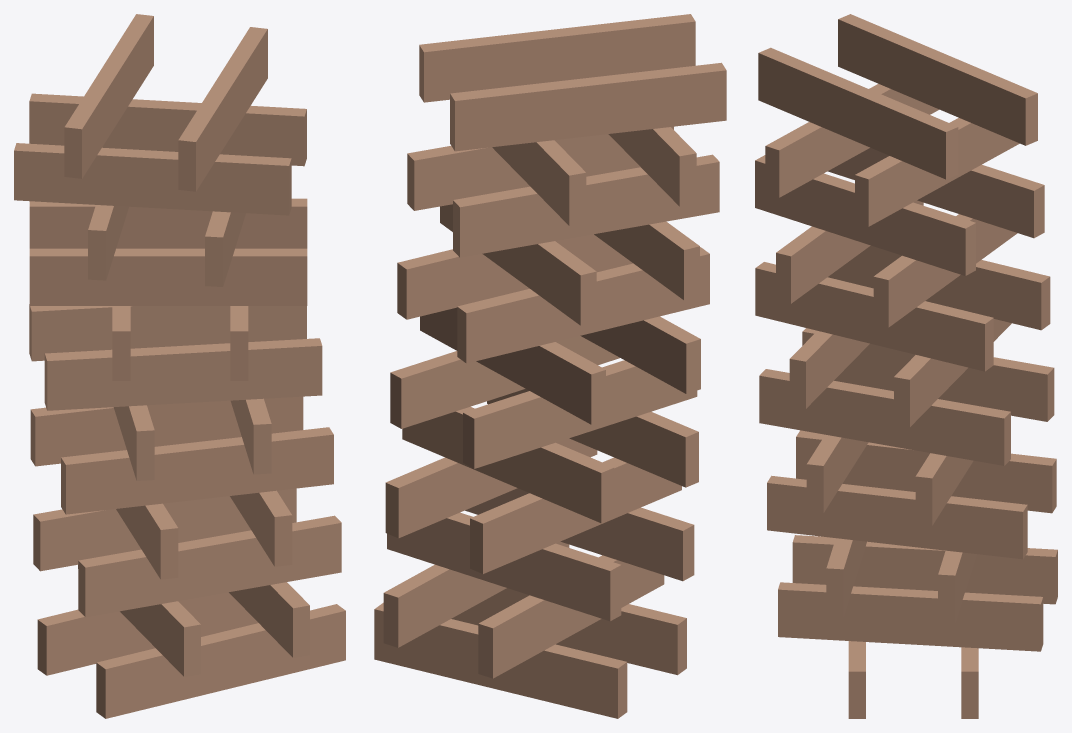
The model's file is keva_spiral_tower.dae.
The picture shows the model from 3 angles, left to right: view 1: azimuth 30°, elevation 25°; view 2: azimuth 150°, elevation 25°; view 3: azimuth 270°, elevation 25°; orthographic projection. The views are drawn at different scales.
Visible parts, largest first — view 1: base (×24); view 2: base (×24); view 3: base (×24).
Boxes of the visible parts, bbox=[...] form: base (×24): bbox=[14, 14, 345, 718]; base (×24): bbox=[374, 14, 726, 718]; base (×24): bbox=[755, 14, 1057, 718].
Bounding box in the file's own units: 0.1425 × 0.1344 × 0.2811.
